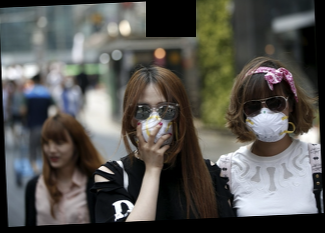with_mask: (243, 92, 289, 144), (132, 98, 174, 147)
without_mask: (43, 137, 73, 169)
